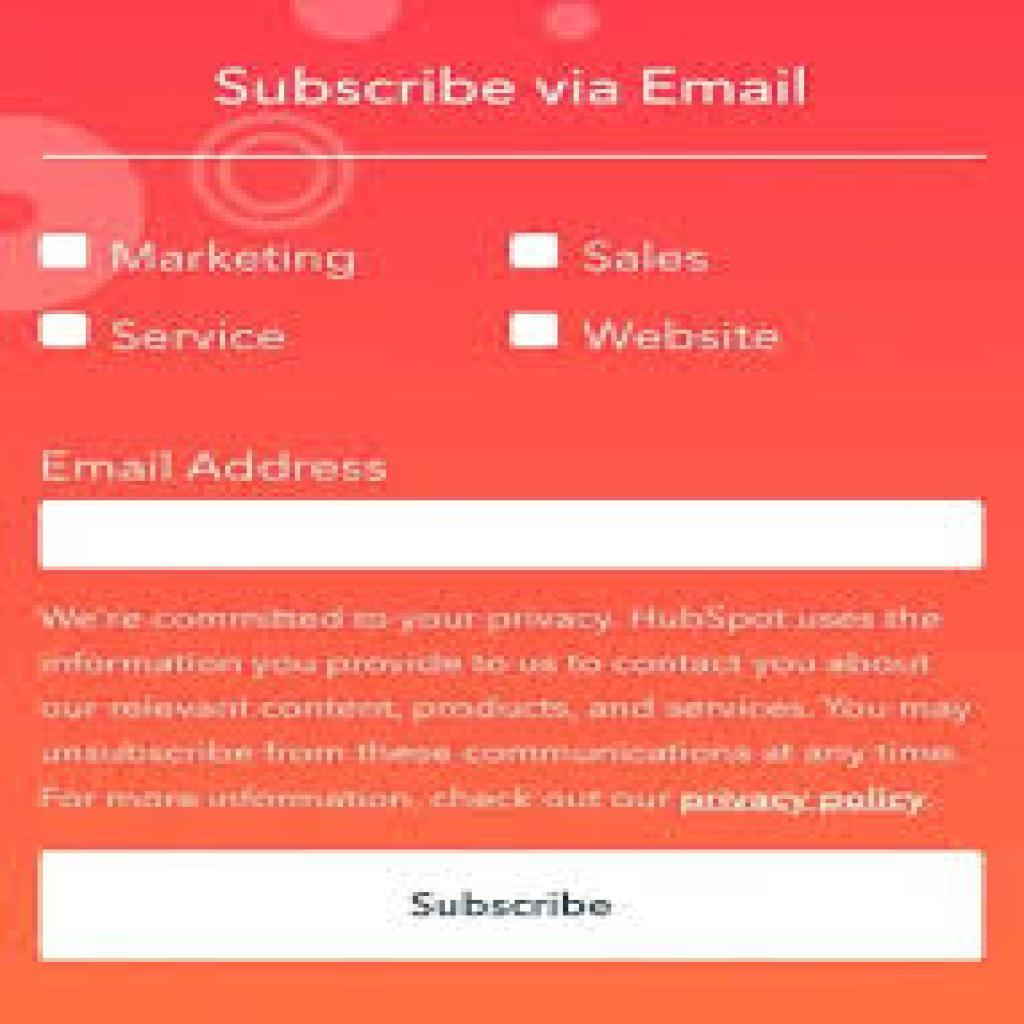button: (37, 850, 983, 960)
checkbox: (509, 310, 564, 353), (40, 229, 90, 273), (513, 232, 563, 273), (39, 310, 91, 348)
input: (41, 500, 984, 564)
